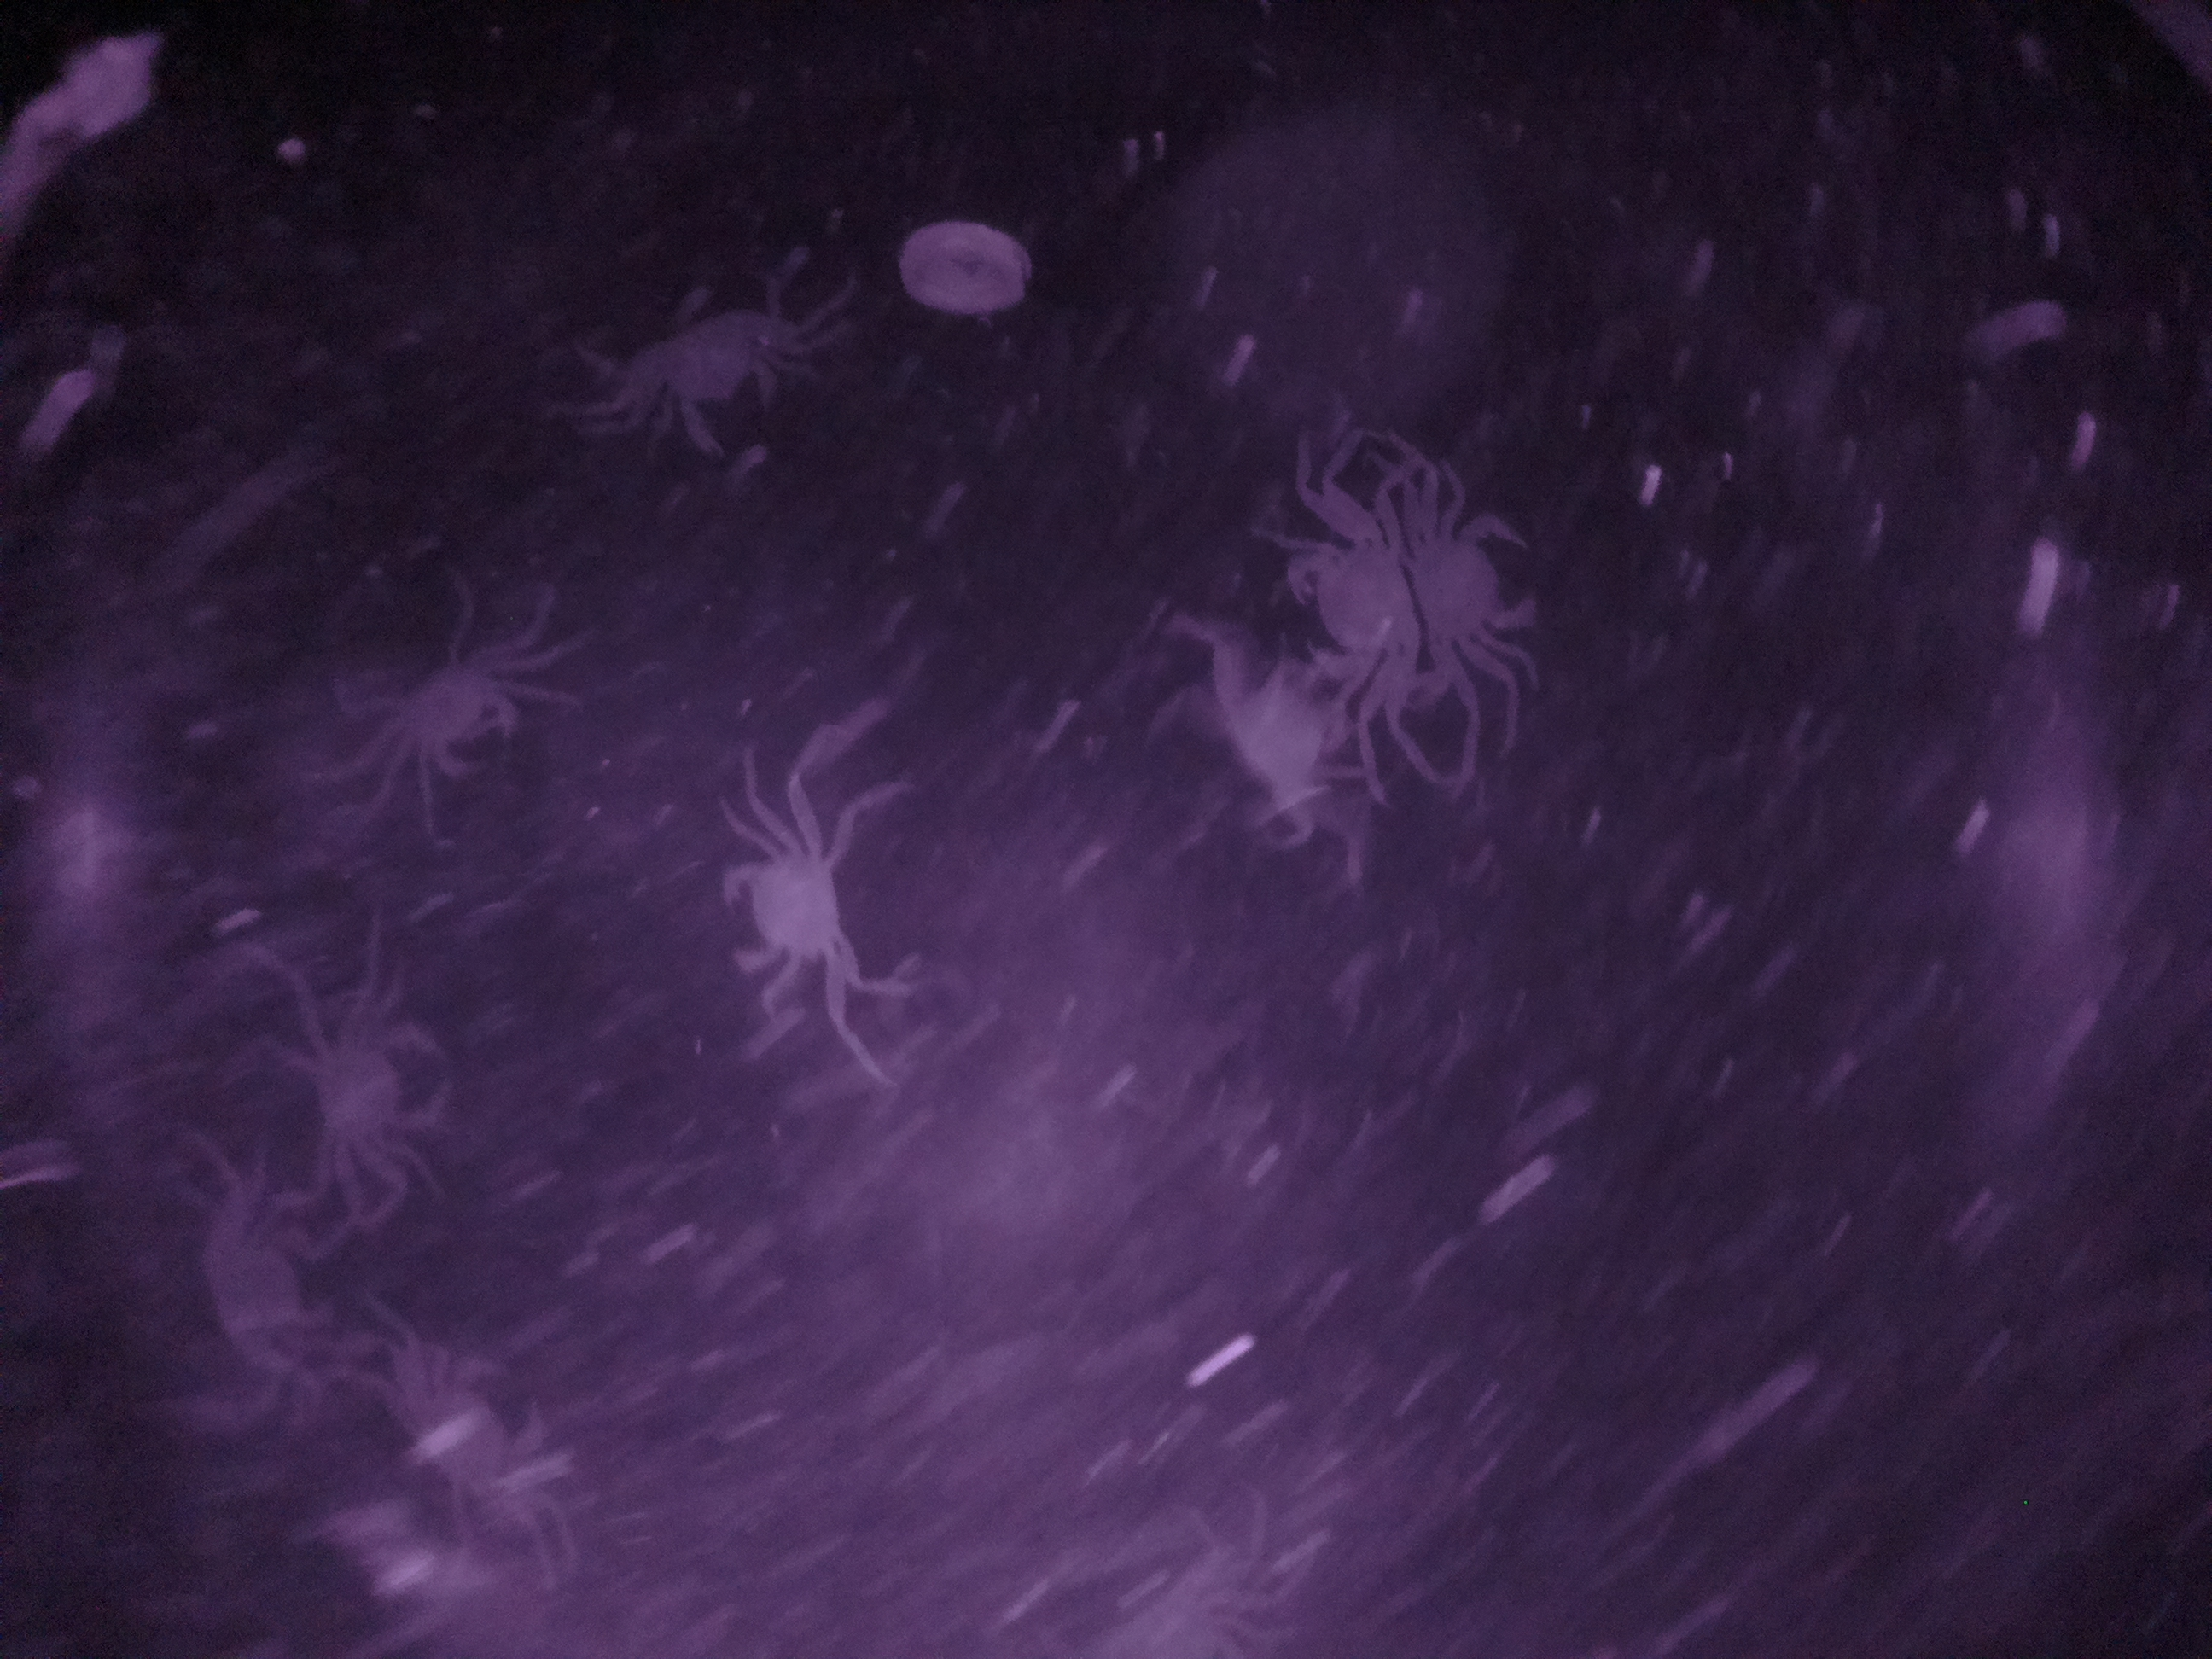Crab: (606, 275, 829, 481), (272, 988, 482, 1173), (1395, 472, 1580, 680), (716, 798, 888, 993), (362, 636, 549, 807)
